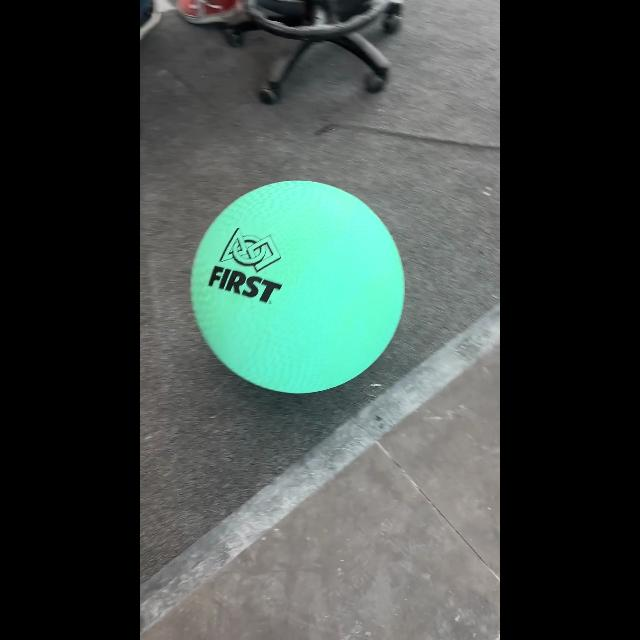ALGAE: (189, 179, 405, 395)
